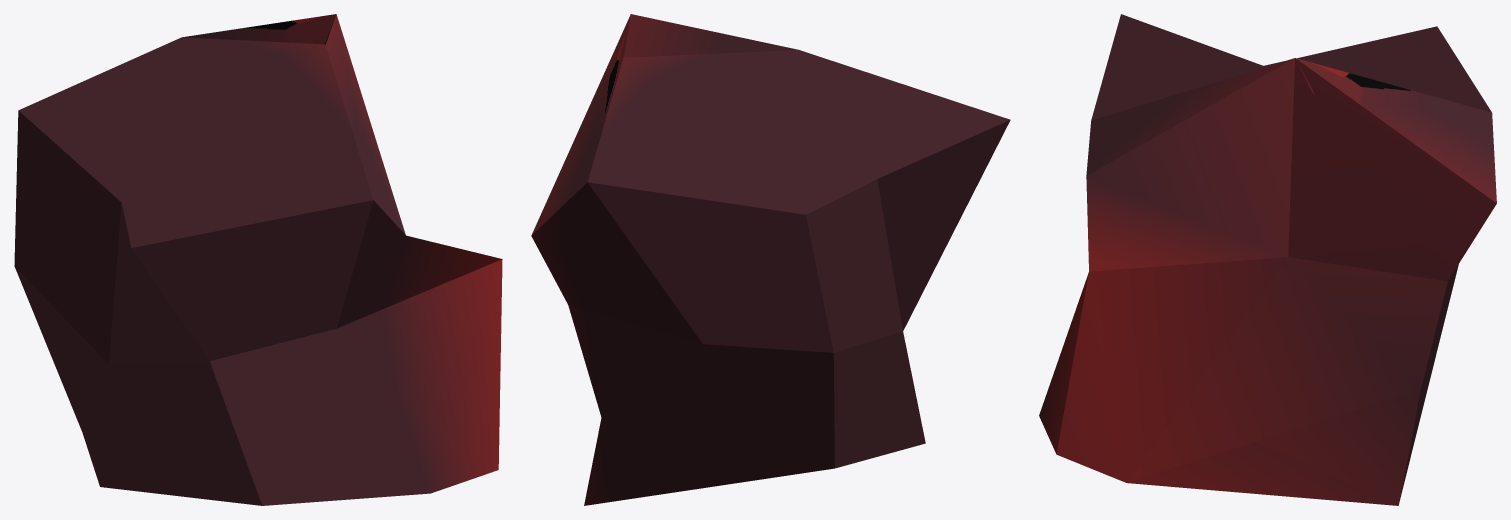
The model's file is asteroid.glb.
The picture shows the model from 3 angles, left to right: view 1: azimuth 30°, elevation 25°; view 2: azimuth 150°, elevation 25°; view 3: azimuth 270°, elevation 25°; orthographic projection.
Visible parts, largest first — view 1: Cube.001; view 2: Cube.001; view 3: Cube.001.
Boxes of the visible parts, x1=… form: Cube.001: x1=14, y1=14, x2=502, y2=505; Cube.001: x1=531, y1=14, x2=1010, y2=505; Cube.001: x1=1039, y1=14, x2=1496, y2=505.
Size of the model in its own units: 2.55 by 3.11 by 2.87.
1 material, 1 textured.
